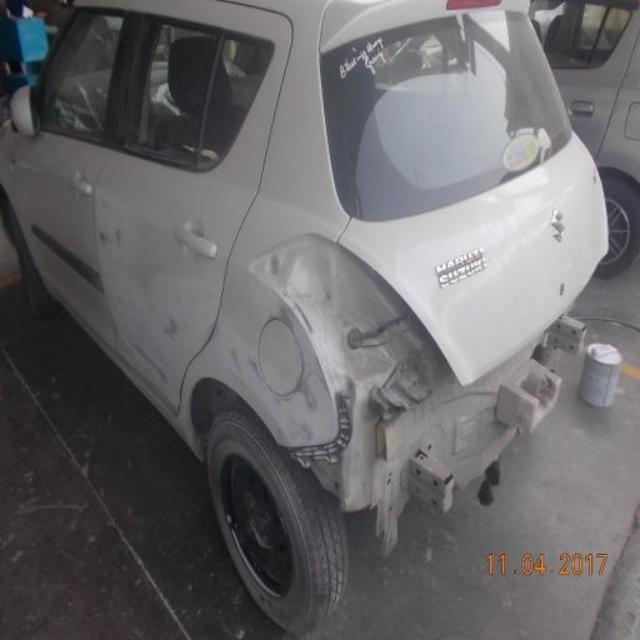dent: (90, 196, 324, 434)
no part: (245, 244, 606, 527)
